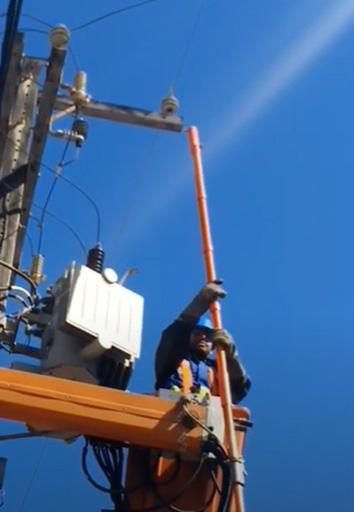Vara_Manobra: (186, 128, 243, 512)
